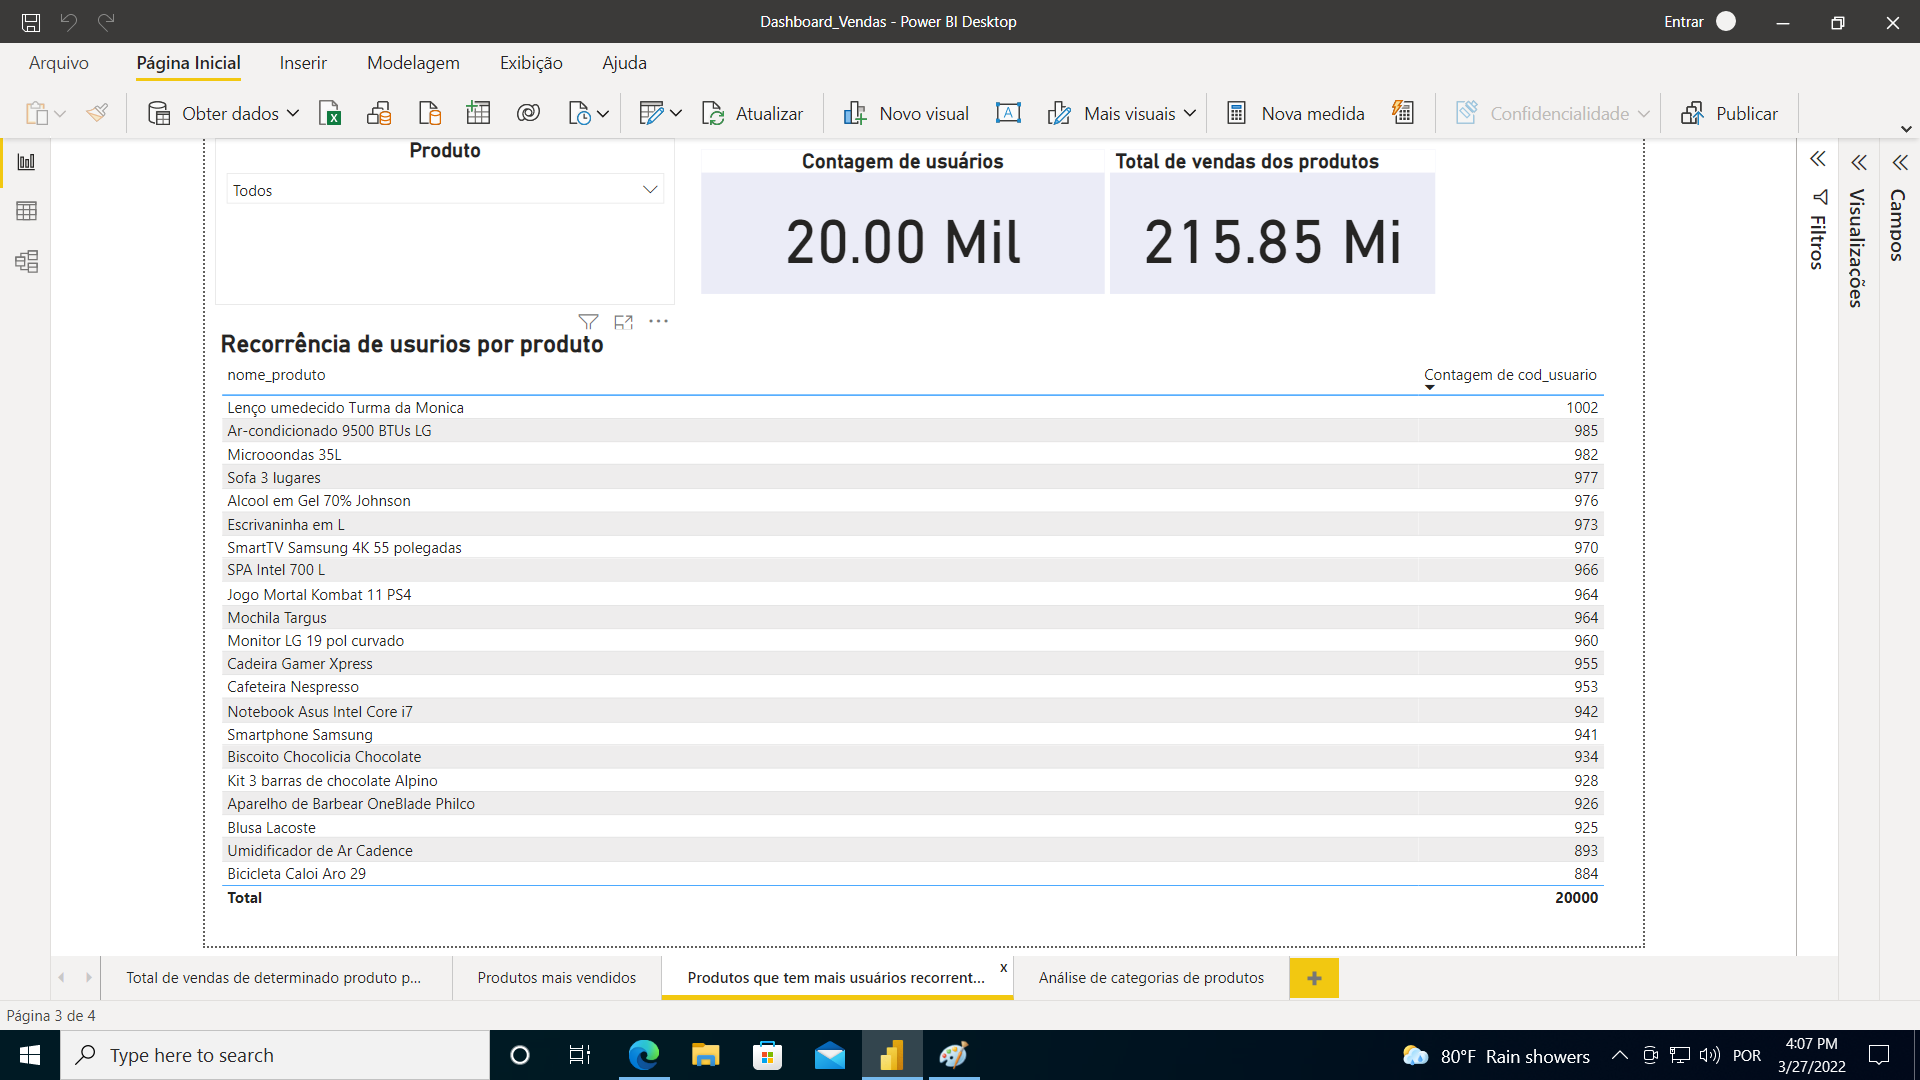

What the dashboard file says about the page in this screenshot:
{"tool":"powerbi","page":{"name":"Produtos que tem mais usuários recorrentes (compraram mais de uma vez)","canvas":[1280,720],"ordinal":2},"visuals":[{"type":"card","title":"Contagem de usuários","fields":{"Values":["CountNonNull(vendas_dataset.cod_usuario)"]},"box":[441.4,9.6,359.4,129],"z":0},{"type":"slicer","title":"Produto","fields":{"Values":["produtos_dataset.nome_produto"]},"box":[8.4,0,410.1,149.5],"z":1000},{"type":"card","title":"Total de vendas dos produtos","fields":{"Values":["Sum(vendas_dataset.valor_compra)"]},"box":[805.6,9.6,289.4,129],"z":2000},{"type":"tableEx","title":"Recorrência de usurios por produto","fields":{"Values":["produtos_dataset.nome_produto","vendas_dataset.cod_usuario"]},"box":[8.4,170.1,1271.2,536.7],"z":3000}]}

Visuals, with their boxes on the page's 1280x720 design canvas (x1, y1, x2, y2). These are canvas units, not pixel positions in the 1920x1080 screenshot, which may show the page scaled, cropped or inside an application window:
"Contagem de usuários" card: pyautogui.locateOnScreen(441, 10, 801, 139)
"Produto" slicer: pyautogui.locateOnScreen(8, 0, 418, 150)
"Total de vendas dos produtos" card: pyautogui.locateOnScreen(806, 10, 1095, 139)
"Recorrência de usurios por produto" tableEx: pyautogui.locateOnScreen(8, 170, 1280, 707)
